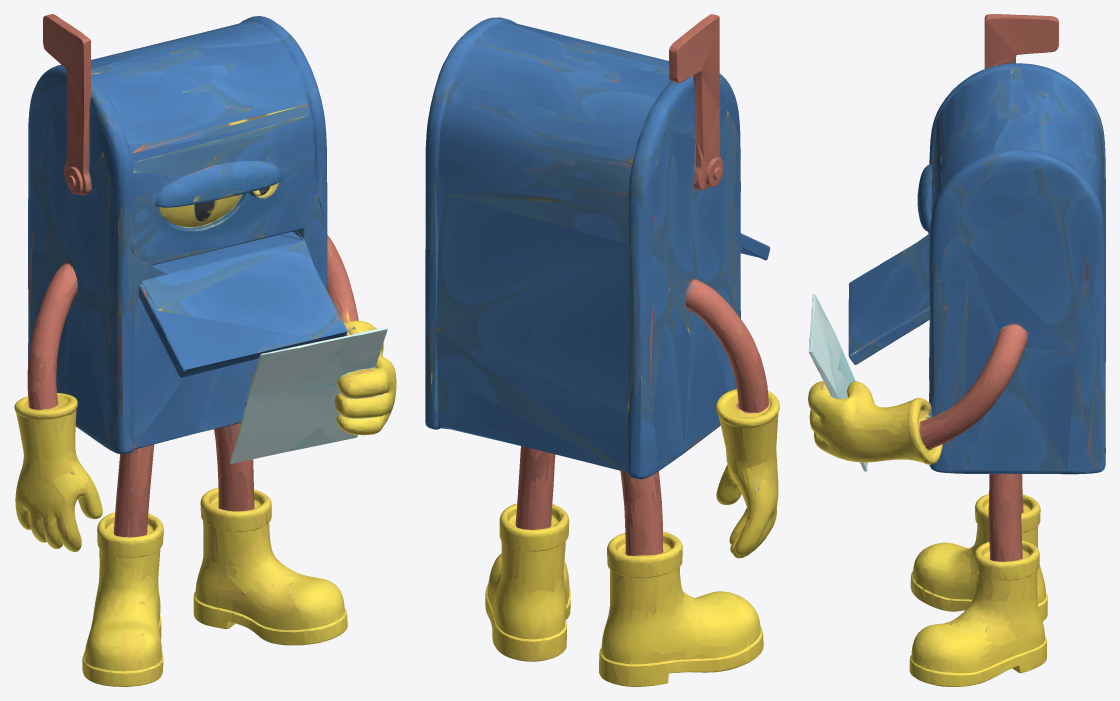
Rendered from mailbox.glb.
The picture shows the model from 3 angles, left to right: view 1: azimuth 30°, elevation 25°; view 2: azimuth 150°, elevation 25°; view 3: azimuth 270°, elevation 25°; orthographic projection. The views are drawn at different scales.
Parts seen in each view (by area): view 1: Mesh_0; view 2: Mesh_0; view 3: Mesh_0.
Boxes of the visible parts, bbox=[...] form: Mesh_0: bbox=[14, 14, 396, 686]; Mesh_0: bbox=[425, 14, 779, 686]; Mesh_0: bbox=[808, 14, 1105, 686].
Bounding box in the file's own units: 1.02 × 1.9 × 0.896.
1 material, 1 textured.
